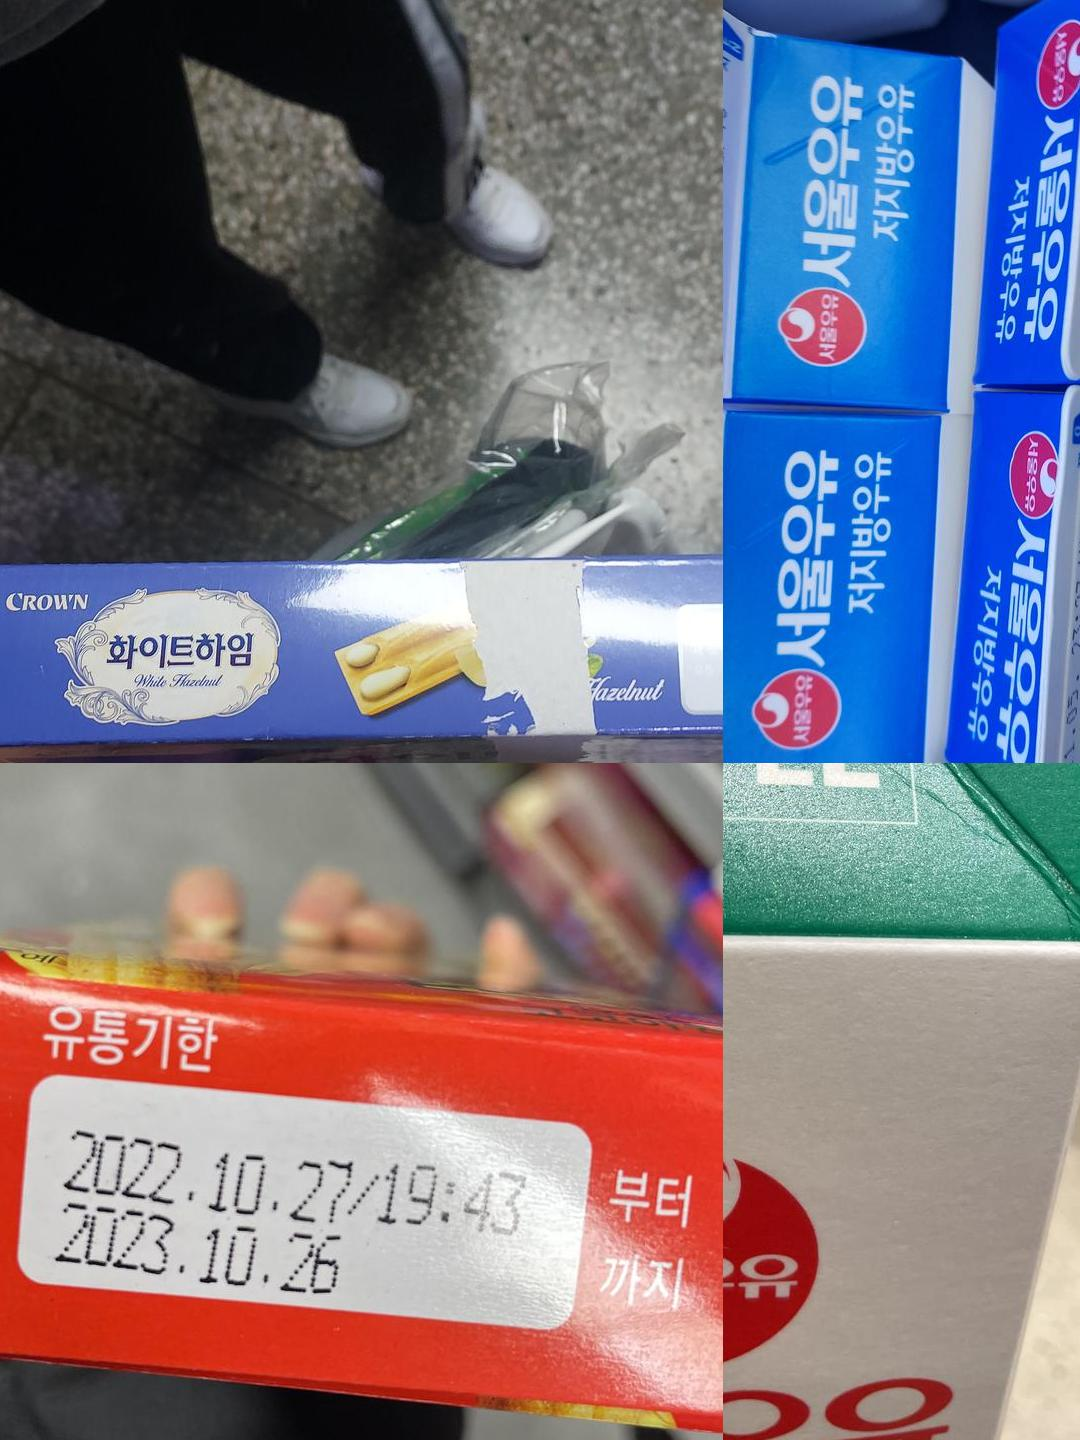milk: (723, 763, 1080, 848), (723, 0, 754, 395), (723, 416, 756, 763), (1053, 400, 1080, 763)
snack food: (42, 1081, 582, 1327)
